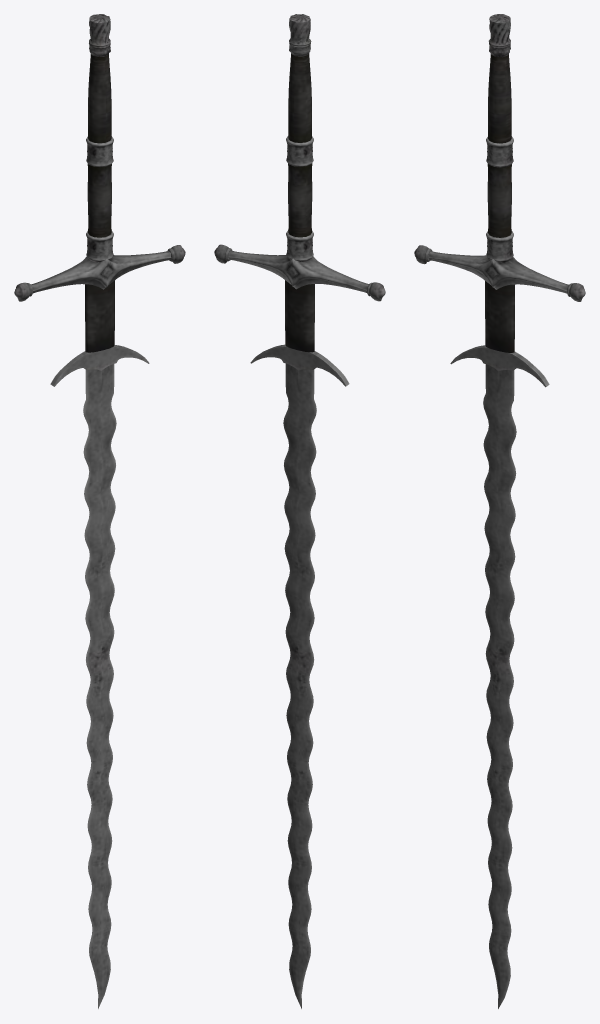
The model's file is weapon-wp_a_0610.glb.
3 renders of one model, left to right at view 1: azimuth 30°, elevation 25°; view 2: azimuth 150°, elevation 25°; view 3: azimuth 330°, elevation 25°, orthographic.
Visible parts, largest first — view 1: wp_a_0610_mesh; view 2: wp_a_0610_mesh; view 3: wp_a_0610_mesh.
Part boxes in pixels (bbox=[...]): wp_a_0610_mesh: bbox=[14, 14, 185, 1008]; wp_a_0610_mesh: bbox=[214, 14, 385, 1008]; wp_a_0610_mesh: bbox=[414, 14, 585, 1008].
Bounding box in the file's own units: 0.299 × 1.67 × 0.0501.
Materials: 1 (1 with a texture image).
